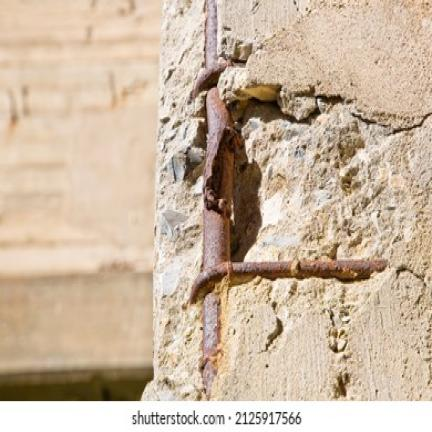karat: (190, 2, 385, 302), (200, 277, 228, 399)
